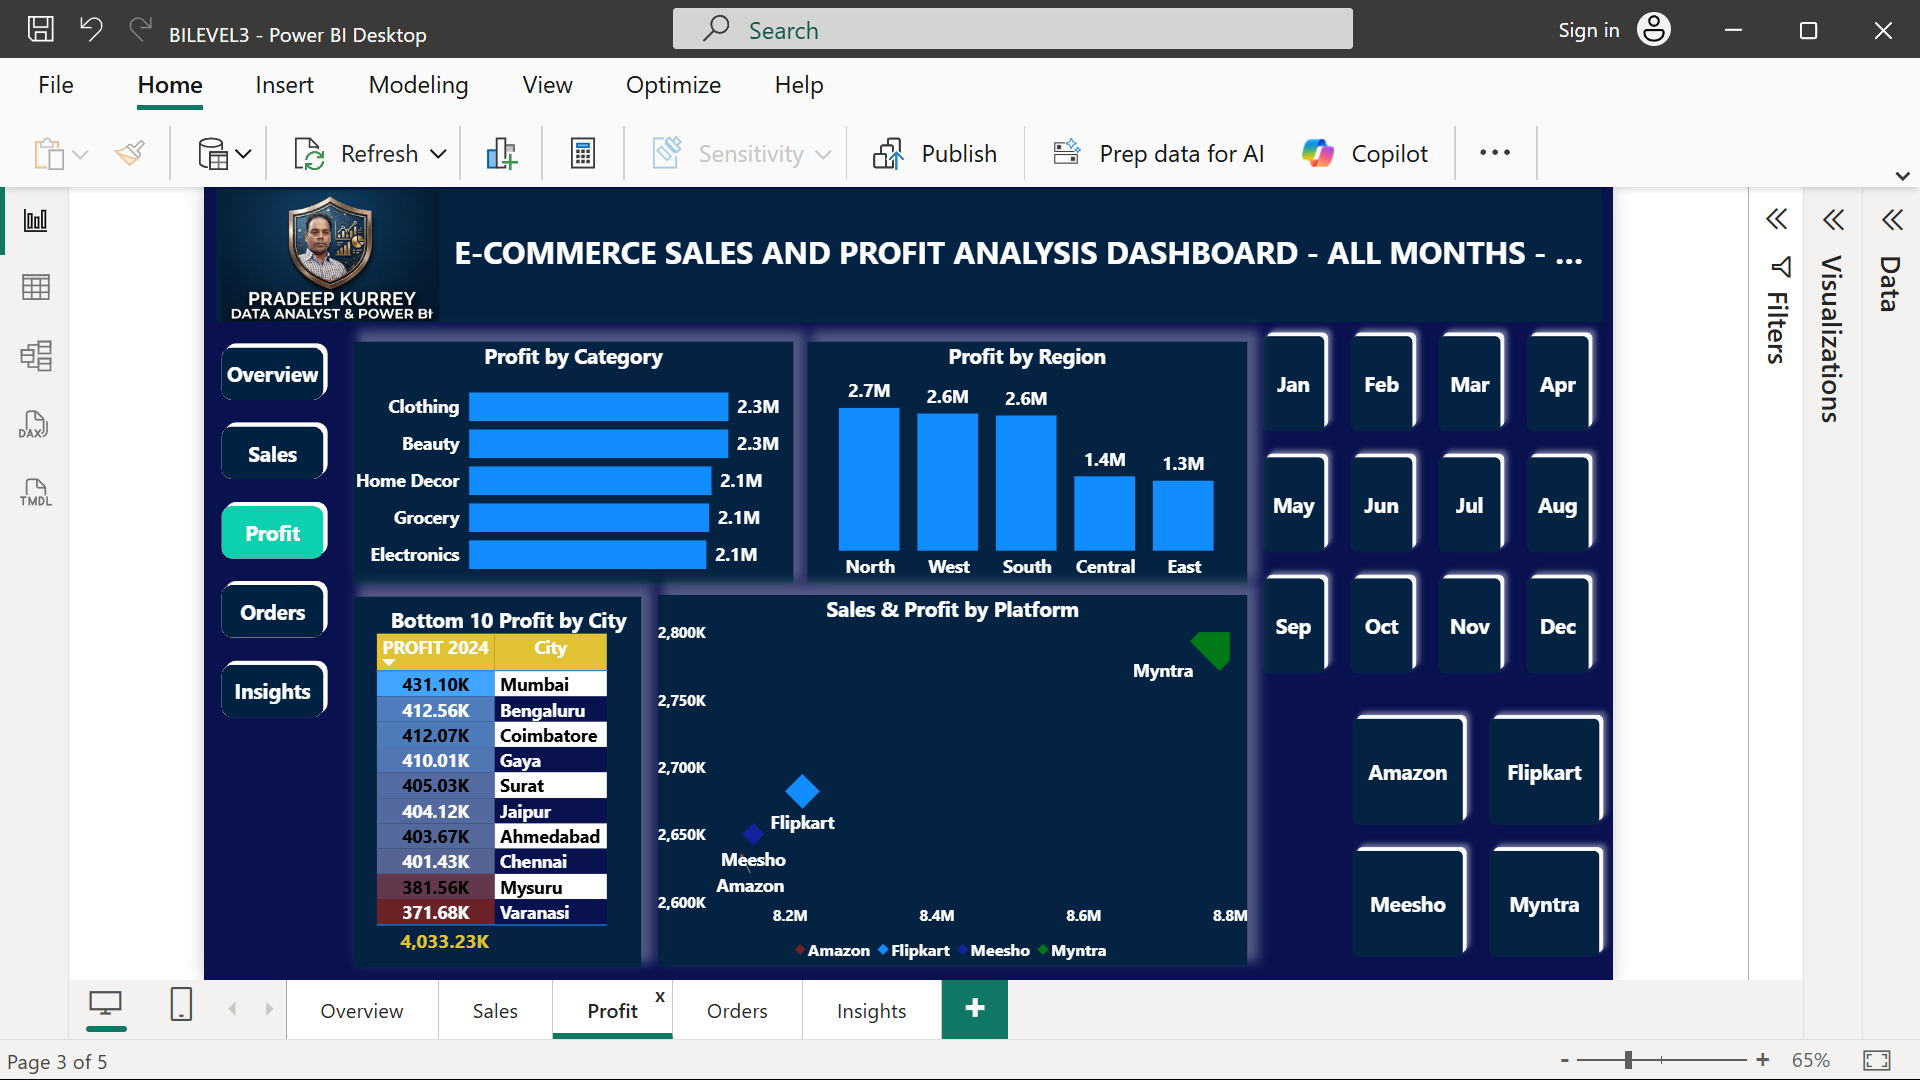

This screenshot's page, from the dashboard's own definition file:
{"tool":"powerbi","page":{"name":"Profit","canvas":[1280,720],"ordinal":2},"visuals":[{"type":"group","id":"g1","title":"Group 1","box":[11.1,1.6,1258.6,121.4],"z":0},{"type":"textbox","box":[11.1,1.6,1258.6,121.4],"z":0,"group":"g1"},{"type":"image","box":[11.1,3.4,207.9,119.6],"z":1000,"group":"g1"},{"type":"advancedSlicerVisual","fields":{"Values":["DATE TABLE.MONTH"]},"box":[950,123.1,321.1,330.8],"z":1000},{"type":"pageNavigator","box":[11,139.8,103,349.6],"z":2000},{"type":"advancedSlicerVisual","fields":{"Values":["Table1.Platform"]},"box":[1031.9,471.2,248.1,240.4],"z":3000},{"type":"clusteredBarChart","title":"  Profit by Category","fields":{"Category":["Table1.Category"],"Y":["DATE TABLE.PROFIT 2024"]},"box":[136.2,139.8,399.3,220.8],"z":4000},{"type":"textbox","box":[223.1,40.4,1046.2,82.7],"z":5000},{"type":"tableEx","title":"Bottom 10 Profit by City ","fields":{"Values":["DATE TABLE.PROFIT 2024","Table1.City"]},"box":[136.2,371.7,261.3,336.7],"z":6000},{"type":"clusteredColumnChart","title":"  Profit by Region","fields":{"Y":["DATE TABLE.PROFIT 2024"],"Category":["Table1.Region"]},"box":[548.3,139.8,399.3,220.8],"z":7000},{"type":"scatterChart","title":" Sales &  Profit by Platform ","fields":{"X":["DATE TABLE.SALE 2024"],"Y":["DATE TABLE.PROFIT 2024"],"Category":["Table1.Platform"],"Series":["Table1.Platform"],"Size":["DATE TABLE.PROFIT 2024"]},"box":[412.2,369.8,535.4,336.7],"z":8000}]}

Visuals, with their boxes on the page's 1280x720 design canvas (x1, y1, x2, y2). These are canvas units, not pixel positions in the 1920x1080 screenshot, which may show the page scaled, cropped or inside an application window:
"Group 1" group: 11:2:1270:123
textbox: 11:2:1270:123
image: 11:3:219:123
advancedSlicerVisual - DATE TABLE.MONTH: 950:123:1271:454
pageNavigator: 11:140:114:489
advancedSlicerVisual - Table1.Platform: 1032:471:1280:712
"  Profit by Category" clusteredBarChart: 136:140:536:361
textbox: 223:40:1269:123
"Bottom 10 Profit by City " tableEx: 136:372:398:708
"  Profit by Region" clusteredColumnChart: 548:140:948:361
" Sales &  Profit by Platform " scatterChart: 412:370:948:706
